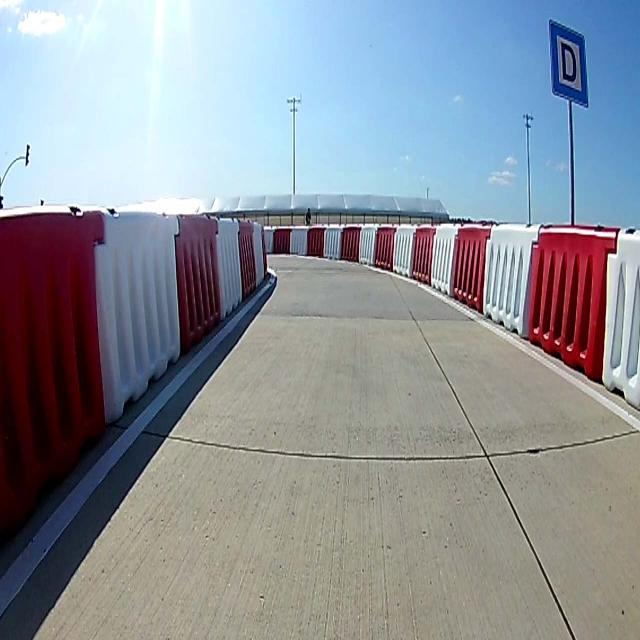durak: (549, 19, 589, 108)
